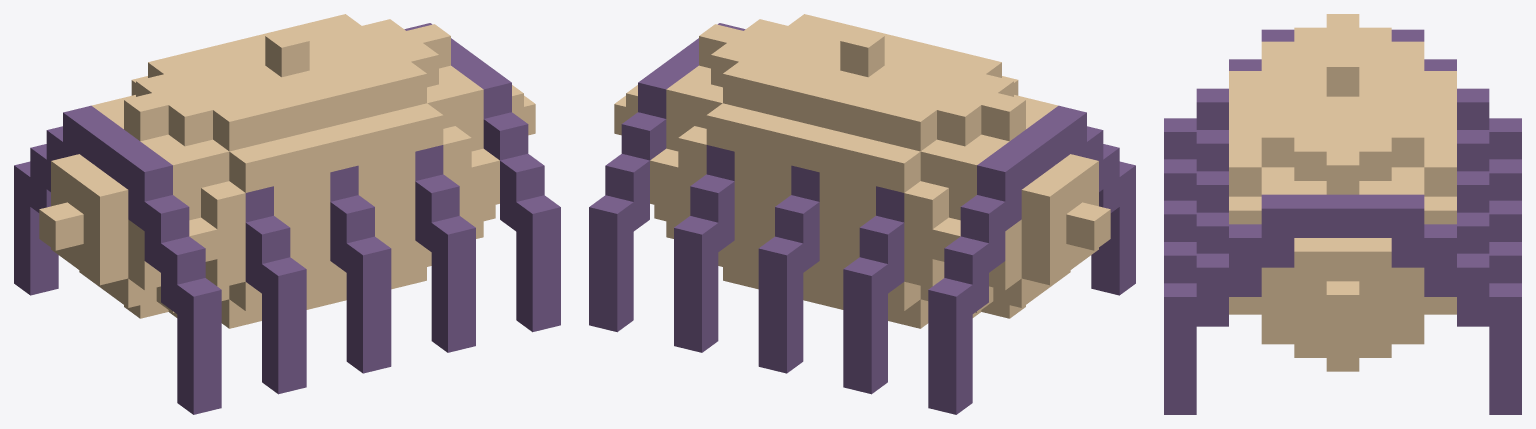
File: alien-biosphere-rib-cocoon-a06aa892__22786.glb
The picture shows the model from 3 angles, left to right: view 1: azimuth 30°, elevation 25°; view 2: azimuth 150°, elevation 25°; view 3: azimuth 270°, elevation 25°; orthographic projection.
Visible parts, largest first — view 1: rib-cocoon; view 2: rib-cocoon; view 3: rib-cocoon.
Boxes of the visible parts, box(x1,y1,x2,y2) form: rib-cocoon: box(14, 14, 560, 414); rib-cocoon: box(589, 14, 1135, 414); rib-cocoon: box(1164, 14, 1521, 414).
Size of the model in its own units: 2.89 by 1.53 by 1.87.
